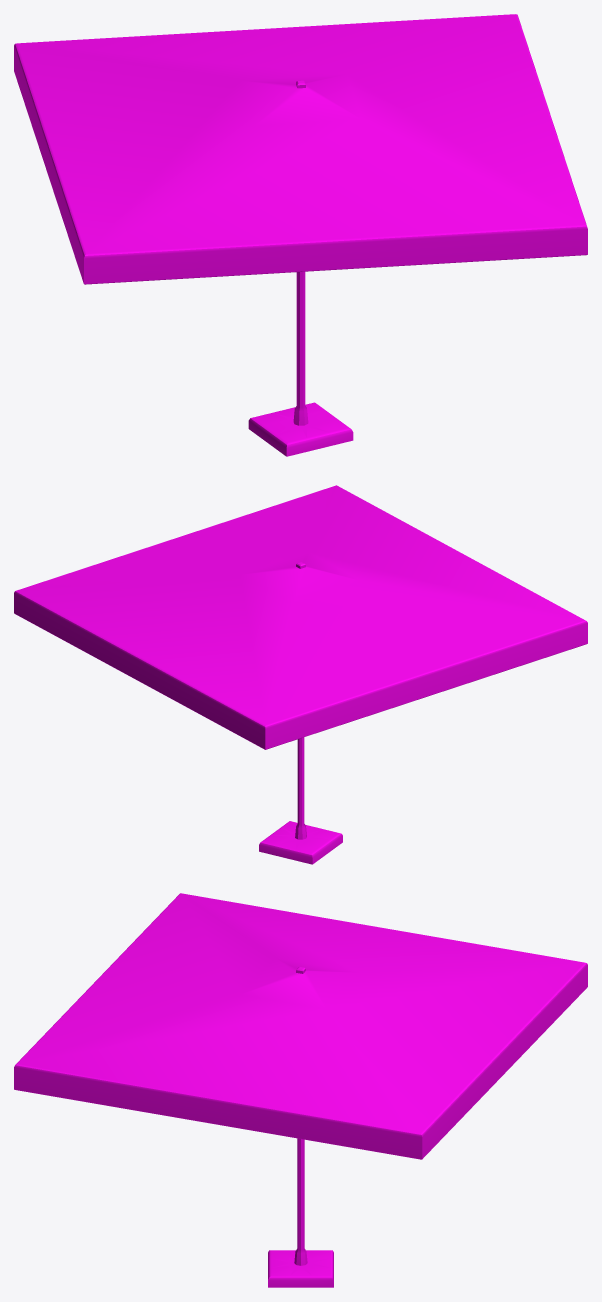
File: parasol 2 var 3.fbx
The picture shows the model from 3 angles, top to bottom: view 1: azimuth 30°, elevation 25°; view 2: azimuth 150°, elevation 25°; view 3: azimuth 270°, elevation 25°; orthographic projection. The views are drawn at different scales.
Visible parts, largest first — view 1: parasol_2_ver_3; view 2: parasol_2_ver_3; view 3: parasol_2_ver_3.
Boxes of the visible parts, x1,y1,x2,y2 form: parasol_2_ver_3: (14, 14, 587, 456); parasol_2_ver_3: (14, 485, 587, 864); parasol_2_ver_3: (14, 893, 587, 1287).
Bounding box in the file's own units: 4.47 × 2.62 × 4.47.
